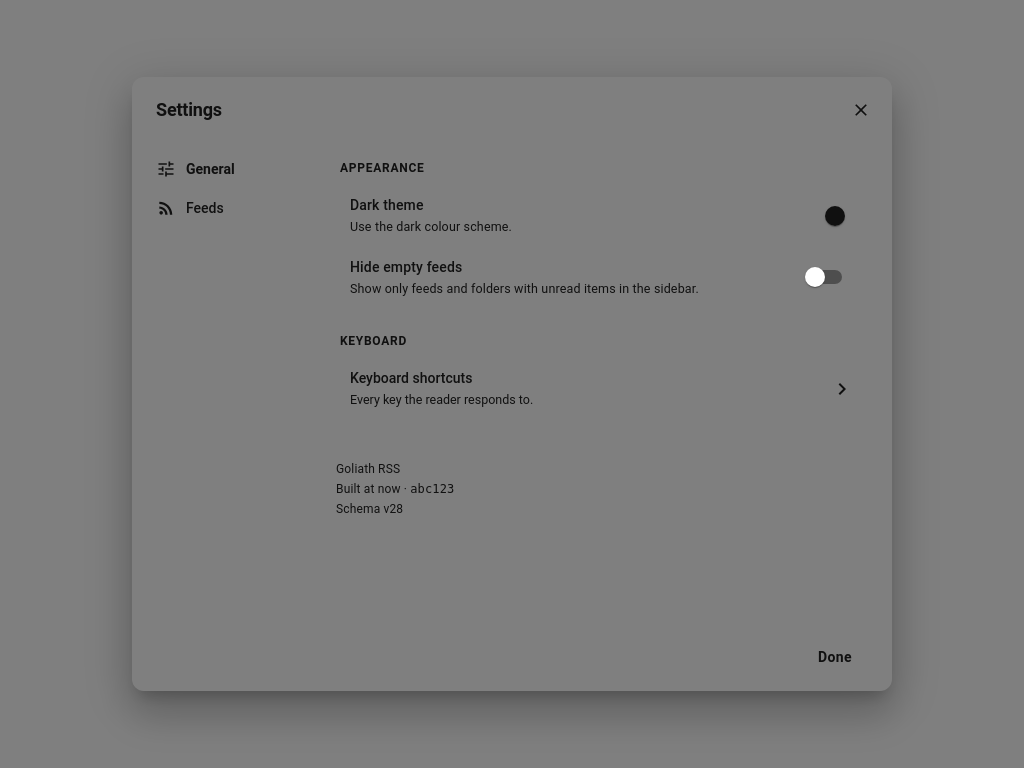
Test: SettingsModal folders › reports a failed removal and keeps the question open
Click the button "Feeds" at (222, 208), box [144, 190, 300, 227]
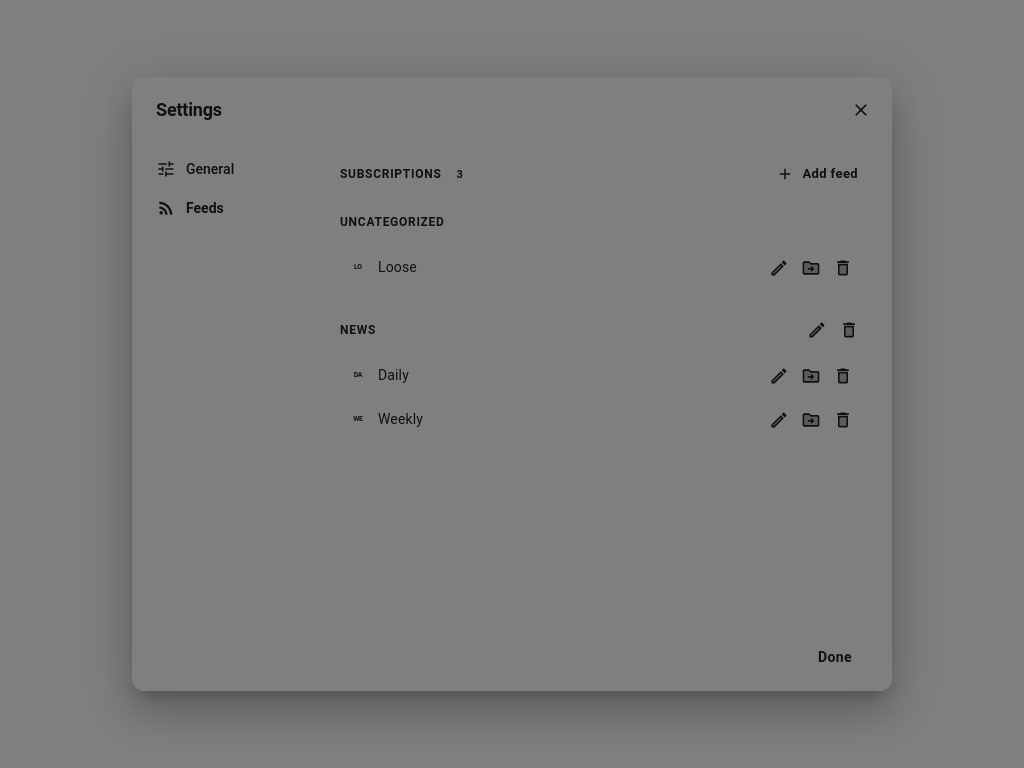
Click the button named "Remove folder News" at (849, 330), box [834, 314, 864, 344]
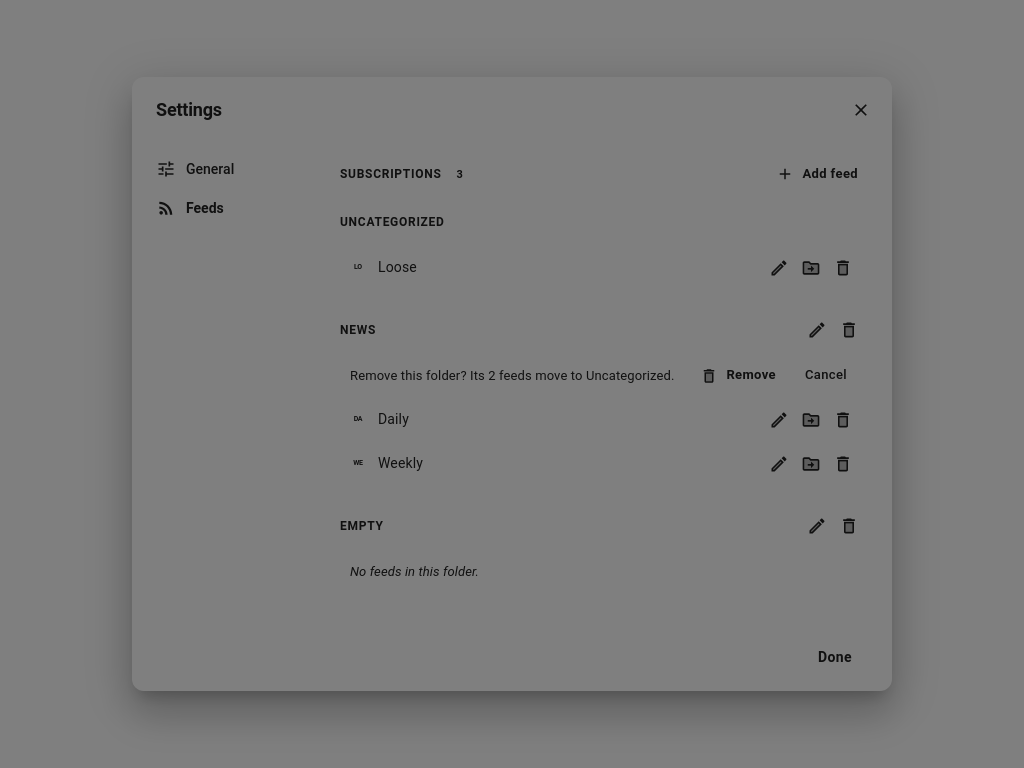
Click the button "Remove" at (739, 376), box [692, 360, 786, 390]
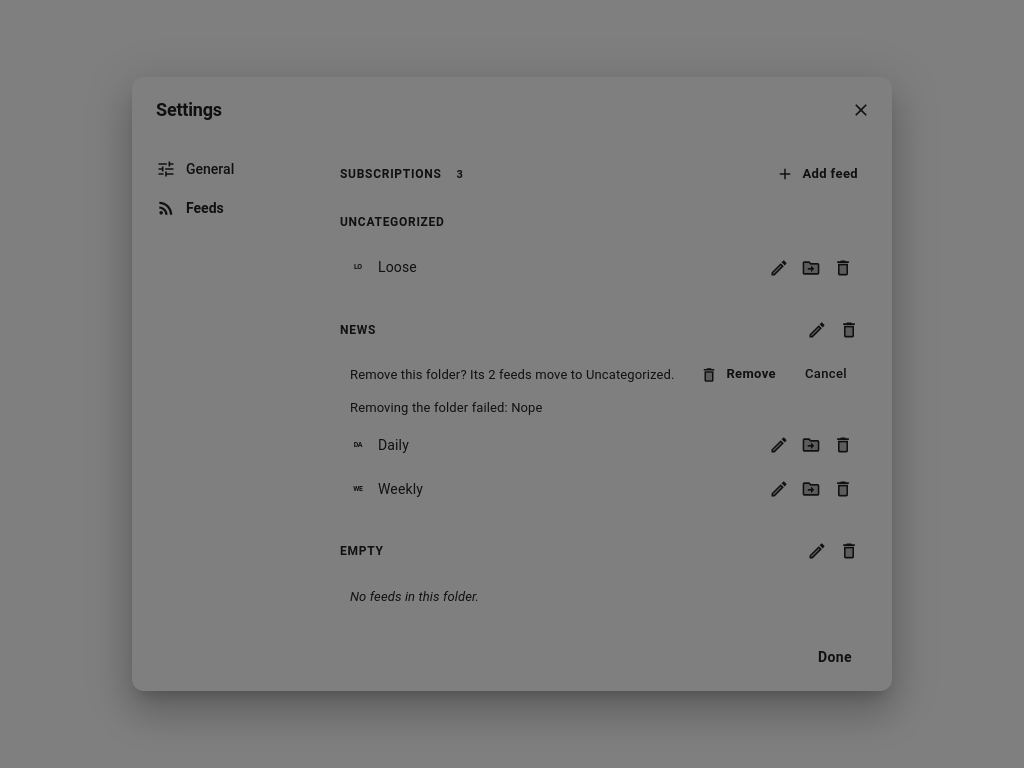
Now the button "Remove" is shown, box [692, 360, 786, 390]
Now the text "Removing the folder failed: Nope" is shown, box [350, 400, 543, 414]
